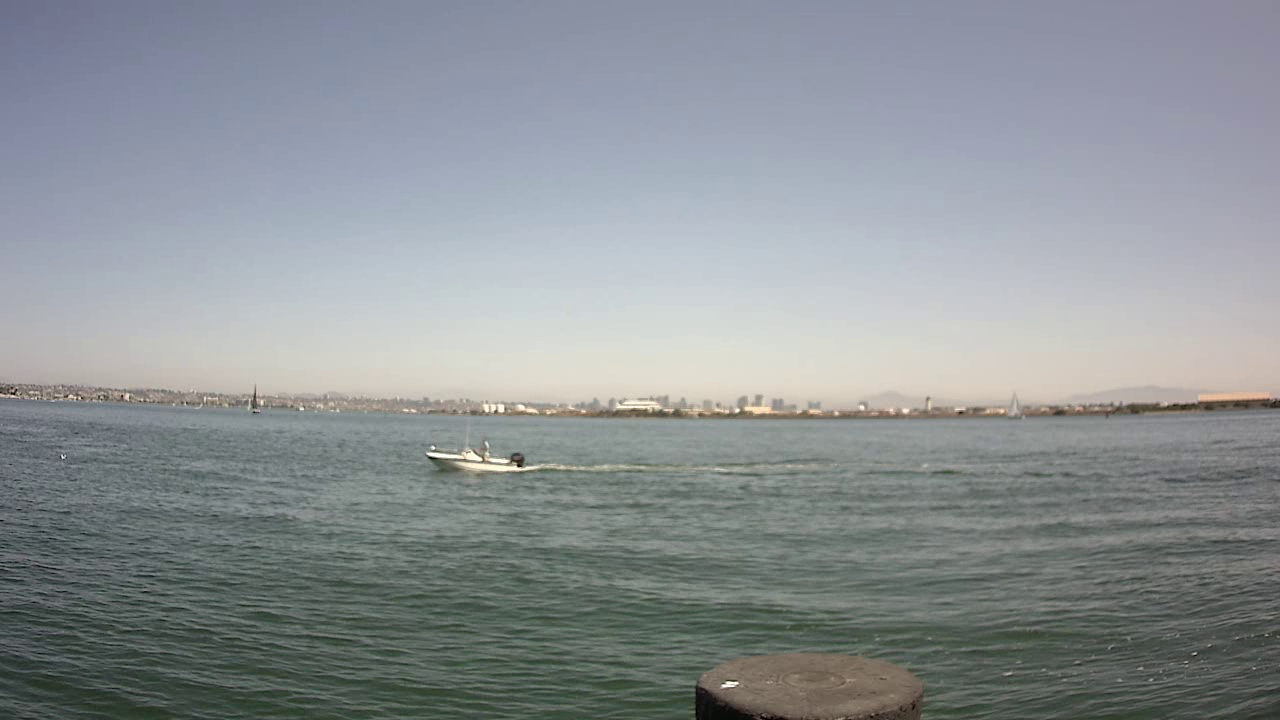target: (422, 414, 545, 480)
